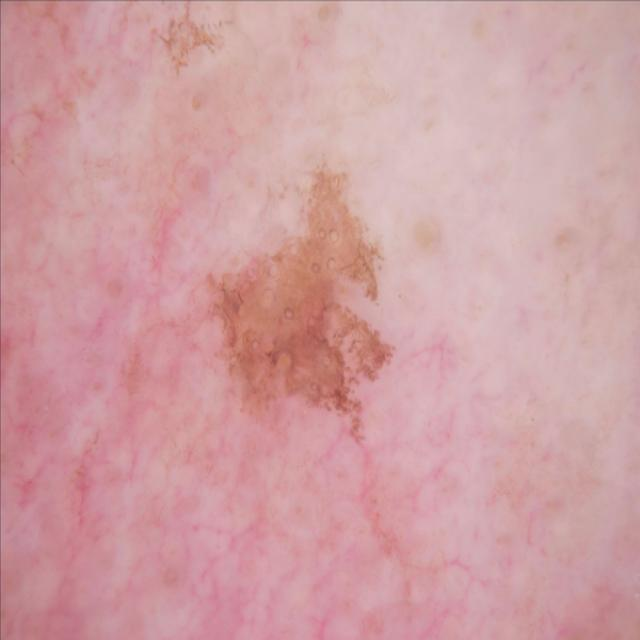Skin-Cancer Pigmented benign keratosis: (24, 22, 612, 590)
